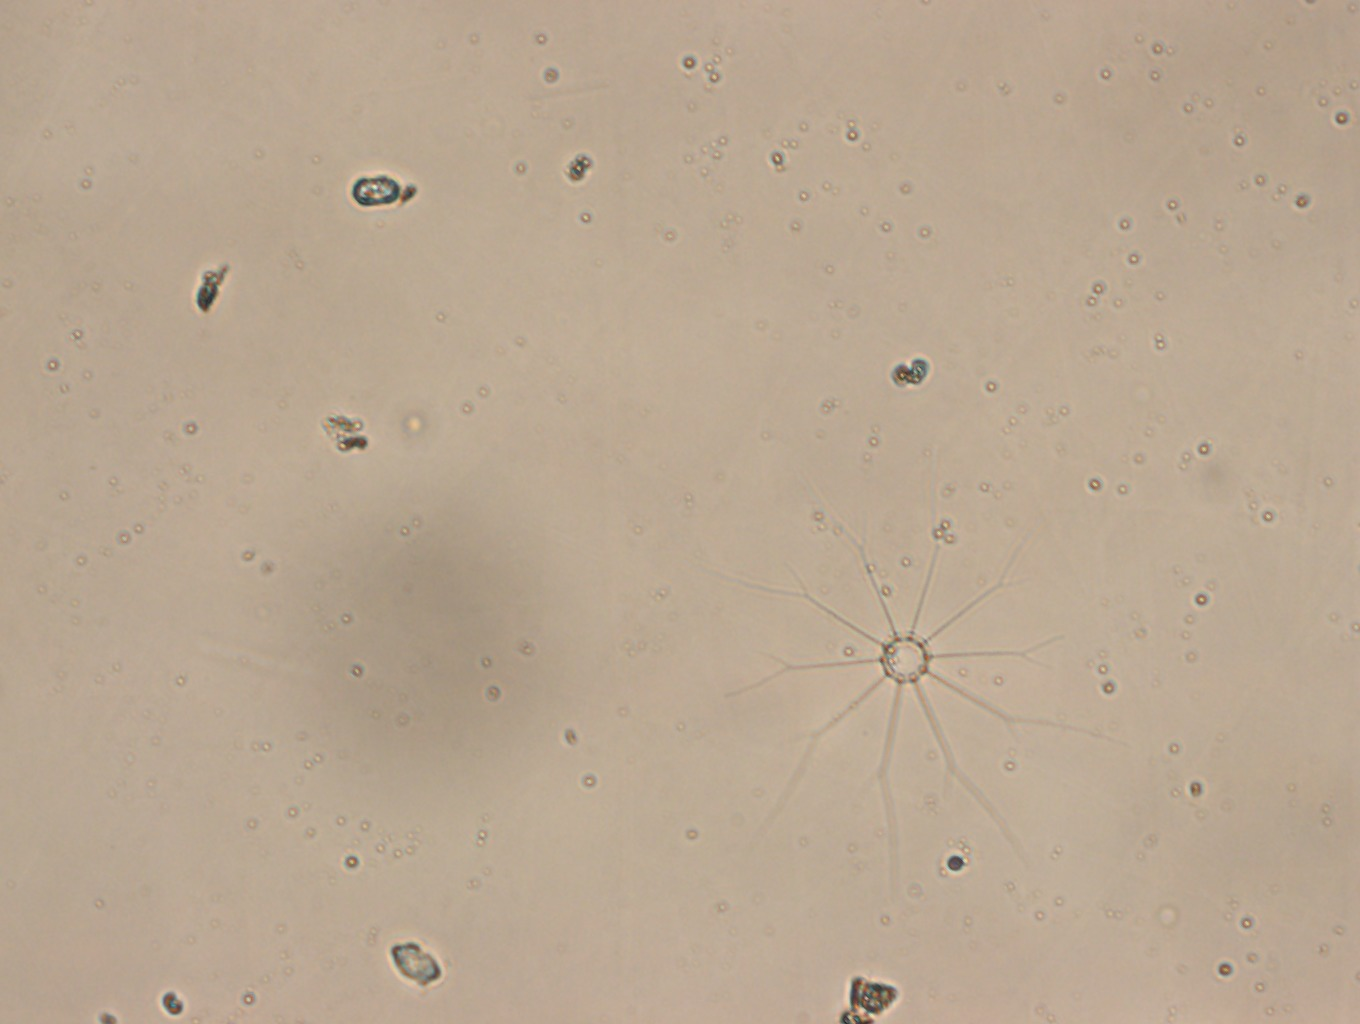bacteriastrum: (719, 486, 1088, 861)
